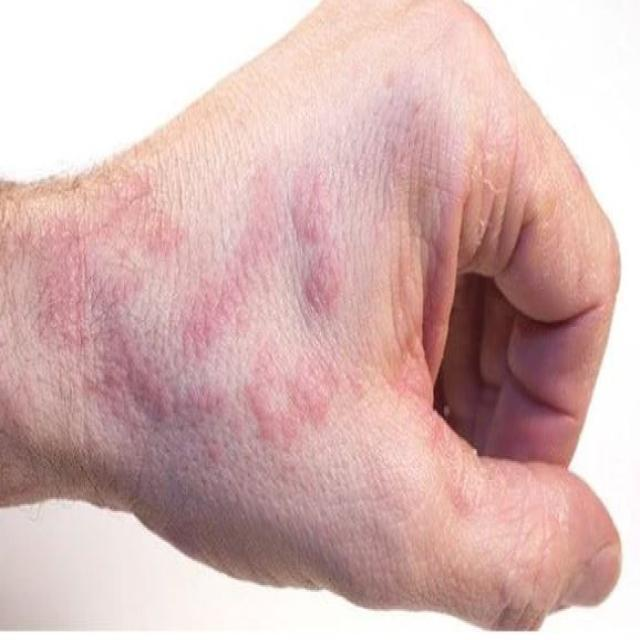Eczema: (6, 93, 453, 460)
